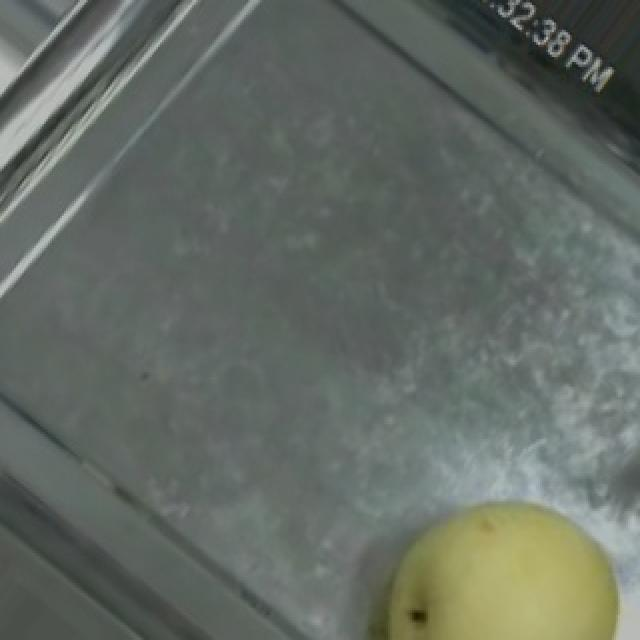Fruit: (346, 466, 640, 640)
